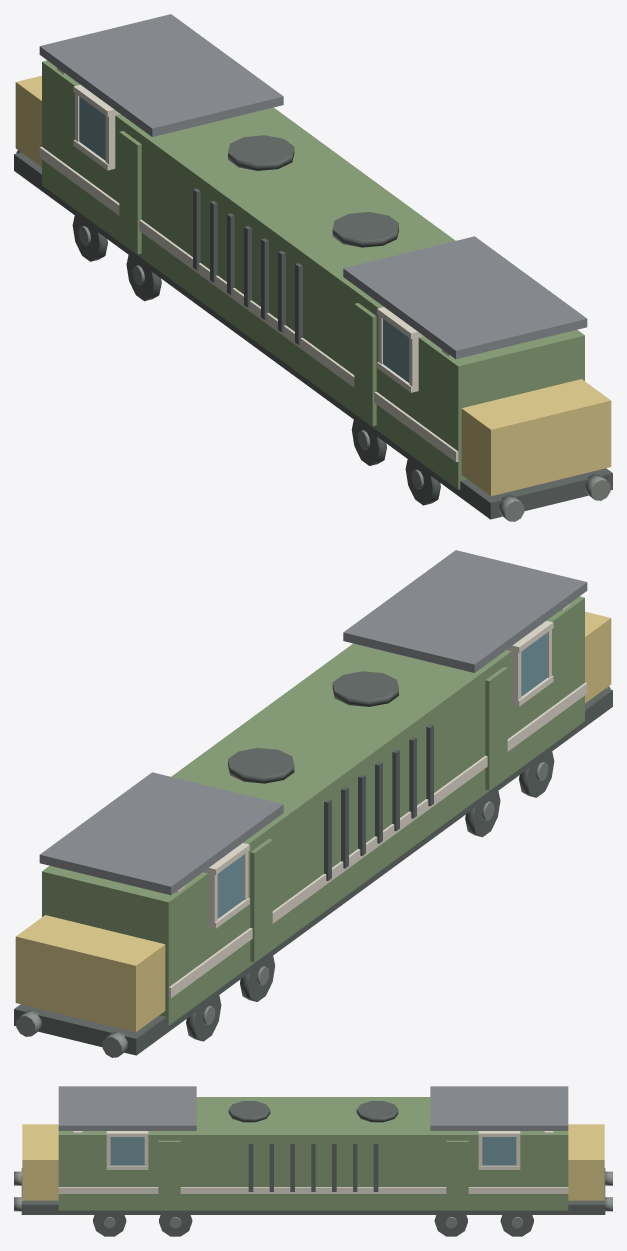
Rendered from tyne-class37_lod1.glb.
3 renders of one model, top to bottom at view 1: azimuth 30°, elevation 25°; view 2: azimuth 150°, elevation 25°; view 3: azimuth 270°, elevation 25°, orthographic. The views are drawn at different scales.
Parts seen in each view (by area): view 1: RF_EngineBody, RF_CabRoof.001, RF_CabRoof, RF_Nose.001, RF_Chassis, RF_BodyStripe.001, RF_CabDoor.001, RF_CabDoor.003, RF_Nose, RF_RoofFan.001, RF_RoofFan, RF_Window.003 (+5 smaller); view 2: RF_EngineBody, RF_CabRoof, RF_CabRoof.001, RF_Nose, RF_Chassis, RF_BodyStripe.001, RF_CabDoor.003, RF_CabDoor.001, RF_Nose.001, RF_RoofFan, RF_RoofFan.001, RF_Window.003 (+5 smaller); view 3: RF_EngineBody, RF_CabRoof.001, RF_CabRoof, RF_Chassis, RF_BodyStripe, RF_Nose.001, RF_Nose, RF_CabDoor.002, RF_CabDoor, RF_Window.004, RF_Window, RF_RoofFan.001 (+14 smaller).
Part boxes in pixels (left/top/right/bottom): RF_EngineBody: left=42, top=60, right=584, bottom=489; RF_CabRoof.001: left=343, top=236, right=587, bottom=359; RF_CabRoof: left=39, top=14, right=283, bottom=136; RF_Nose.001: left=461, top=379, right=611, bottom=496; RF_Chassis: left=14, top=152, right=612, bottom=519; RF_BodyStripe.001: left=39, top=146, right=458, bottom=462; RF_CabDoor.001: left=354, top=303, right=376, bottom=426; RF_CabDoor.003: left=119, top=131, right=141, bottom=254; RF_Nose: left=15, top=75, right=41, bottom=167; RF_RoofFan.001: left=332, top=212, right=398, bottom=247; RF_RoofFan: left=228, top=135, right=294, bottom=170; RF_Window.003: left=383, top=319, right=409, bottom=382; RF_EngineBody: left=42, top=596, right=584, bottom=1025; RF_CabRoof: left=39, top=772, right=283, bottom=895; RF_CabRoof.001: left=343, top=550, right=587, bottom=672; RF_Nose: left=15, top=915, right=165, bottom=1032; RF_Chassis: left=14, top=688, right=612, bottom=1055; RF_BodyStripe.001: left=168, top=682, right=587, bottom=998; RF_CabDoor.003: left=250, top=839, right=272, bottom=962; RF_CabDoor.001: left=485, top=667, right=507, bottom=790; RF_Nose.001: left=585, top=611, right=611, bottom=703; RF_RoofFan: left=228, top=748, right=294, bottom=783; RF_RoofFan.001: left=332, top=671, right=398, bottom=706; RF_Window.003: left=521, top=632, right=547, bottom=696; RF_EngineBody: left=58, top=1097, right=568, bottom=1210; RF_CabRoof.001: left=58, top=1086, right=196, bottom=1130; RF_CabRoof: left=430, top=1086, right=568, bottom=1130; RF_Chassis: left=21, top=1168, right=605, bottom=1214; RF_BodyStripe: left=58, top=1187, right=568, bottom=1193; RF_Nose.001: left=22, top=1124, right=58, bottom=1200; RF_Nose: left=568, top=1124, right=604, bottom=1200; RF_CabDoor.002: left=158, top=1140, right=180, bottom=1208; RF_CabDoor: left=446, top=1140, right=468, bottom=1208; RF_Window.004: left=110, top=1137, right=144, bottom=1165; RF_Window: left=482, top=1137, right=516, bottom=1165; RF_RoofFan.001: left=228, top=1101, right=270, bottom=1122.
Size of the model in its own units: 3.14 by 3.86 by 18.68.
